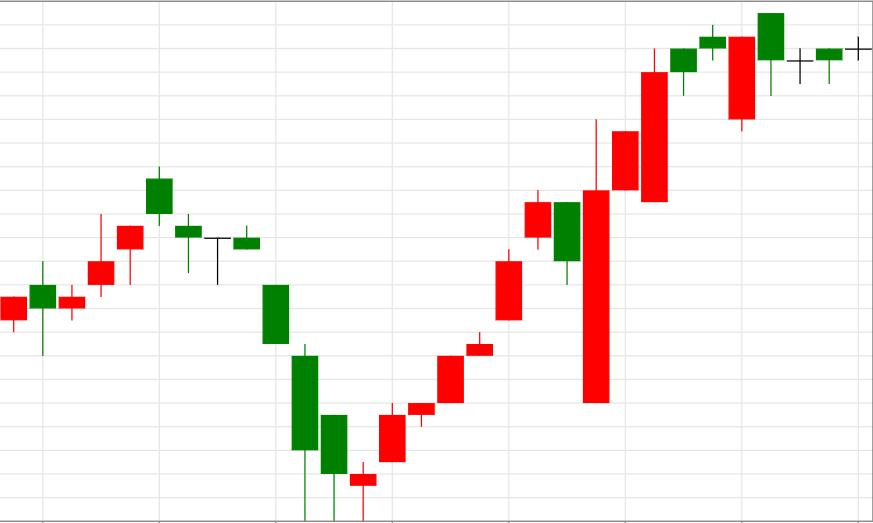morning_star_rise: (145, 167, 406, 520)
